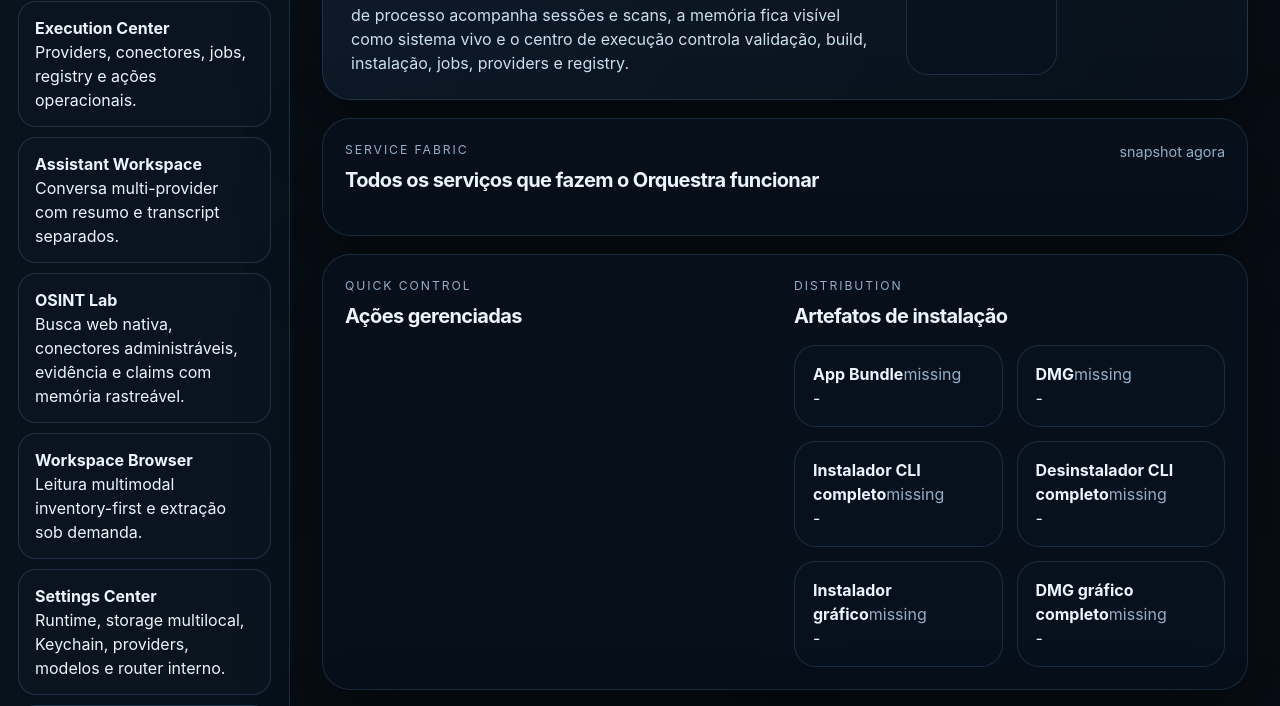
Test: App › mostra o OSINT Lab com conectores, evidências e claims aprováveis
(page scrolled)
Click the button "OSINT Lab": [144, 348] box x1=18 y1=273 x2=271 y2=423
(page scrolled)
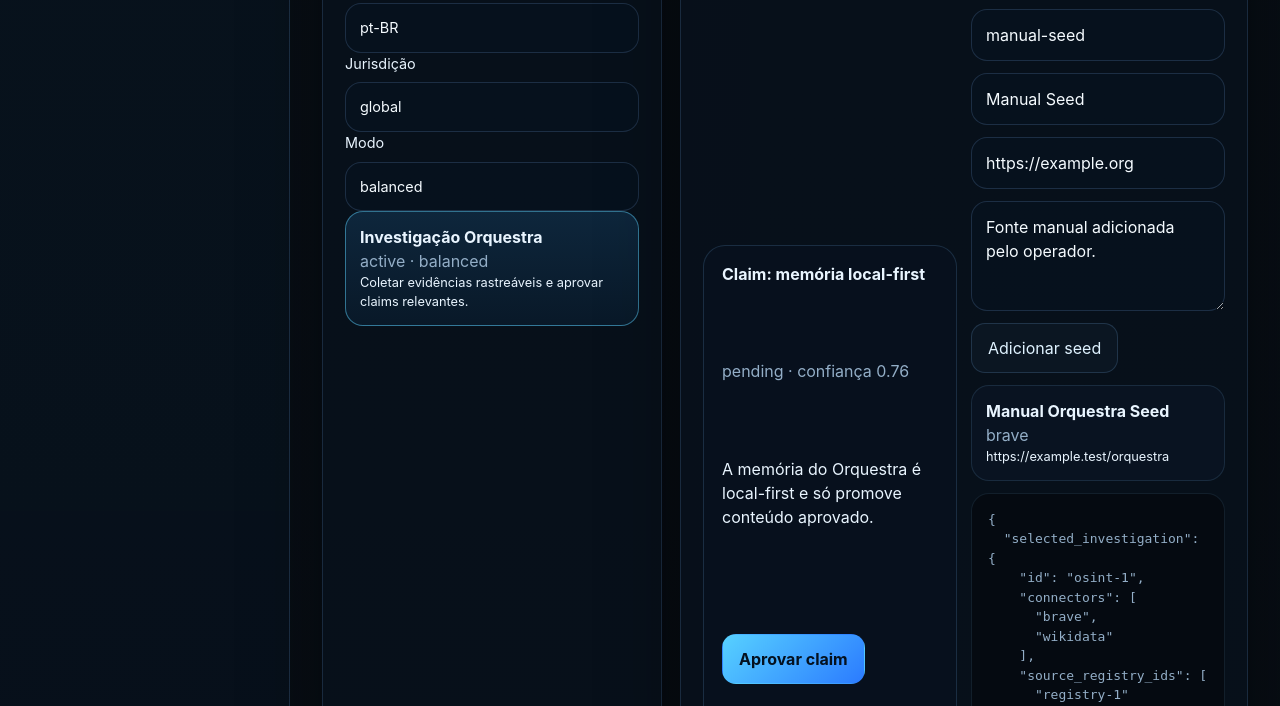
Result: the text "Investigação Orquestra" is shown at x1=360 y1=227 x2=542 y2=247
Result: the text "Claim: memória local-first" is shown at x1=722 y1=264 x2=925 y2=284
Result: the button "Adicionar seed" is shown at x1=971 y1=323 x2=1118 y2=373
